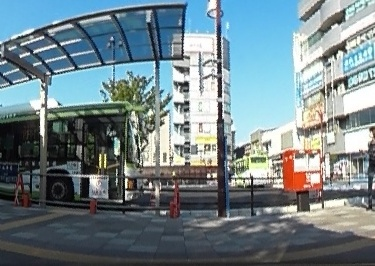person: (364, 123, 375, 207)
